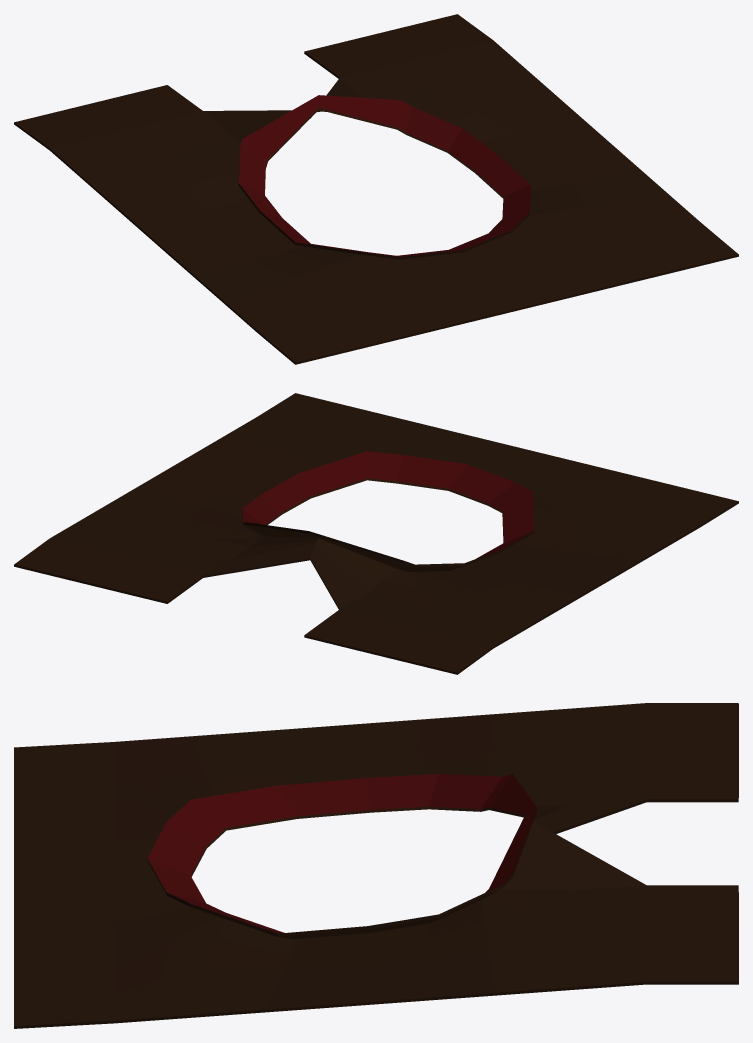
The model's file is Kilt.fbx.
The picture shows the model from 3 angles, top to bottom: view 1: azimuth 30°, elevation 25°; view 2: azimuth 150°, elevation 25°; view 3: azimuth 270°, elevation 25°; orthographic projection. The views are drawn at different scales.
Parts seen in each view (by area): view 1: Kilt; view 2: Kilt; view 3: Kilt.
Part boxes in pixels (x1,y1,x2,y2): Kilt: (14,14,738,364); Kilt: (14,393,738,674); Kilt: (14,703,738,1028).
Bounding box in the file's own units: 271 × 38.33 × 297.
